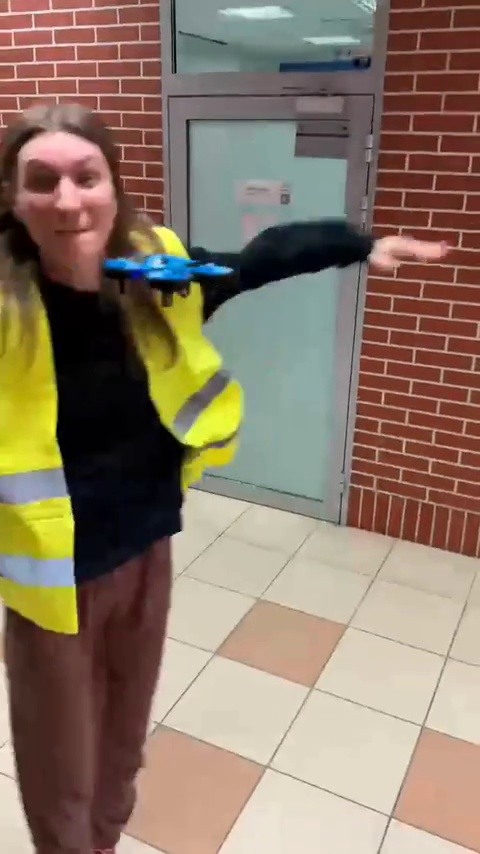drone: (104, 252, 236, 300)
vest: (0, 103, 258, 847)
